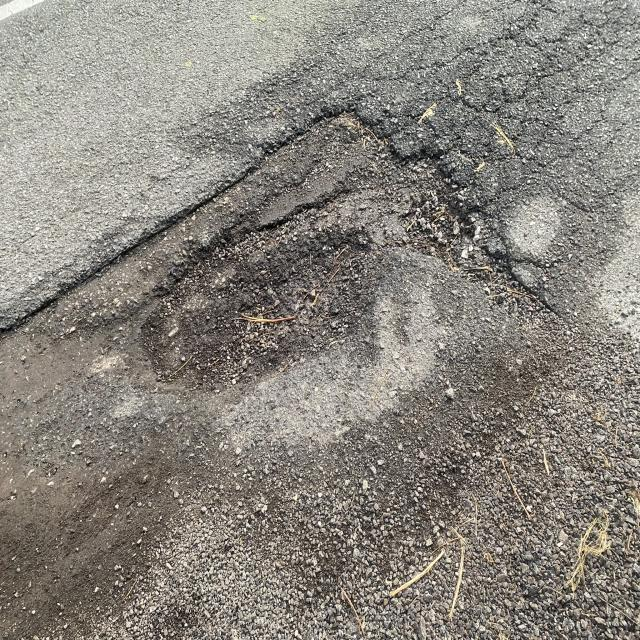pothole: (58, 159, 528, 373)
